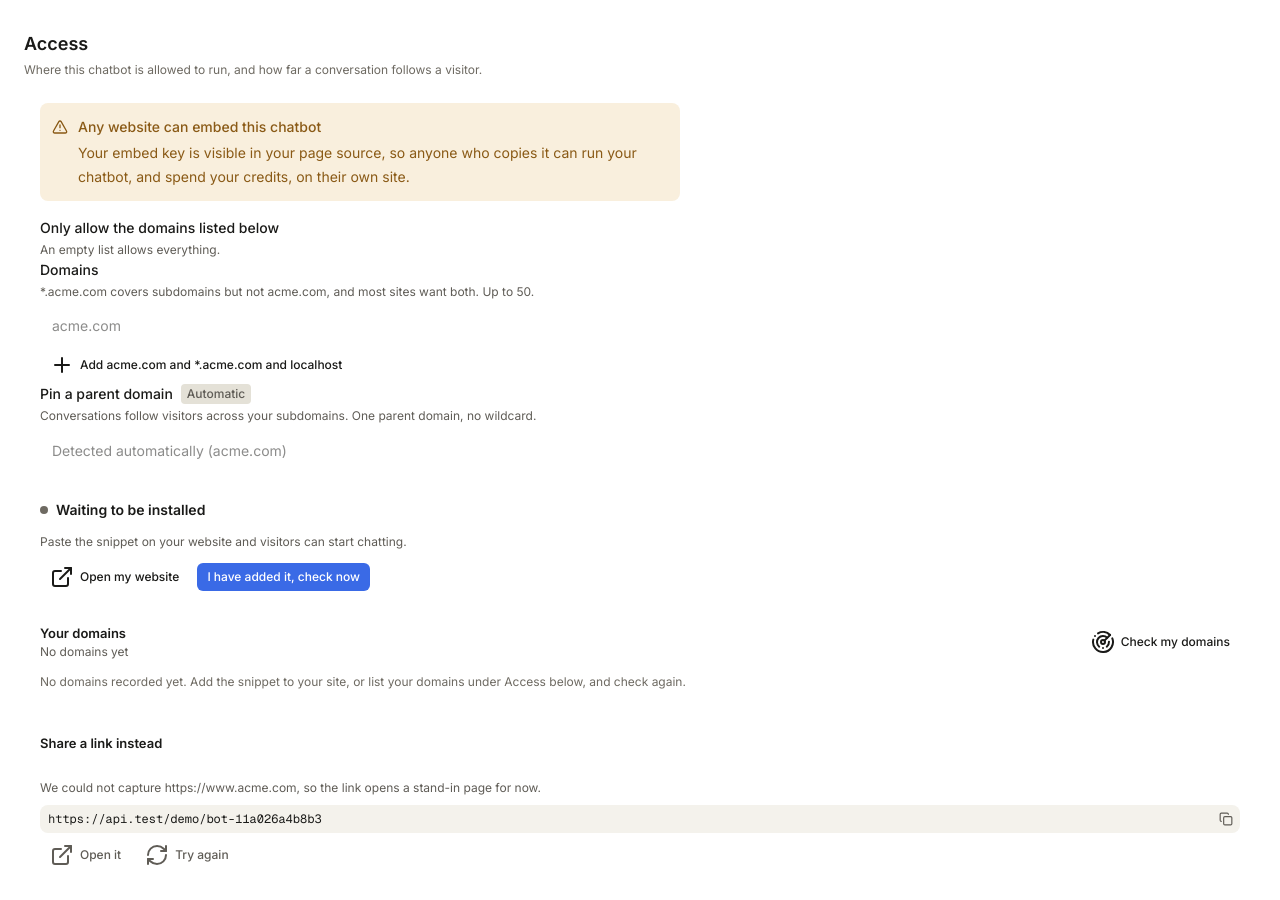
Test: access, on Deploy › refuses a pinned parent the cookie API cannot express, and says why
(page scrolled)
Check: the heading "Access" is shown, box left=24, top=33, right=88, bottom=54
Step 1. Type "*.acme.com" into the field named "Pin a parent domain" → point(232, 450), box left=40, top=433, right=424, bottom=467
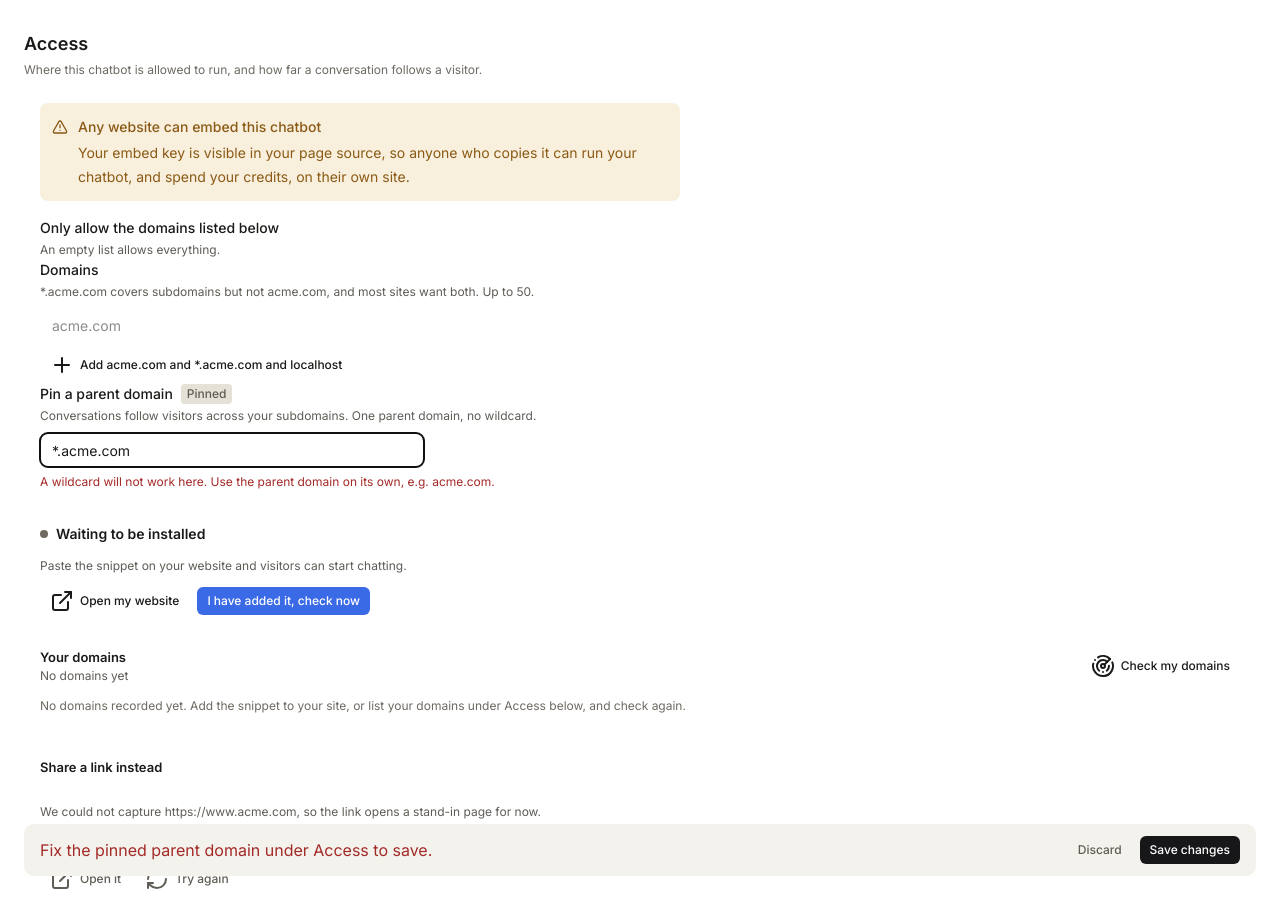
Check: the text "A wildcard will not work here" is shown, box left=40, top=474, right=495, bottom=489
Check: the button "Save changes" is disabled, box left=1140, top=836, right=1240, bottom=864
